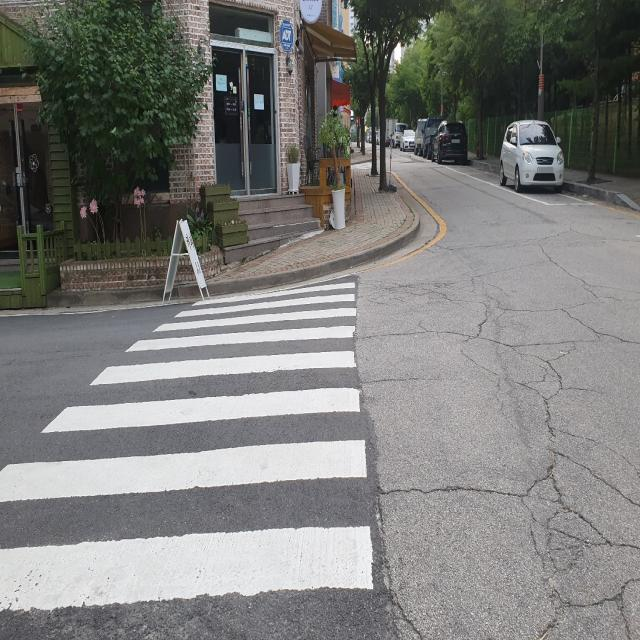횡단보도: (0, 282, 374, 640)
